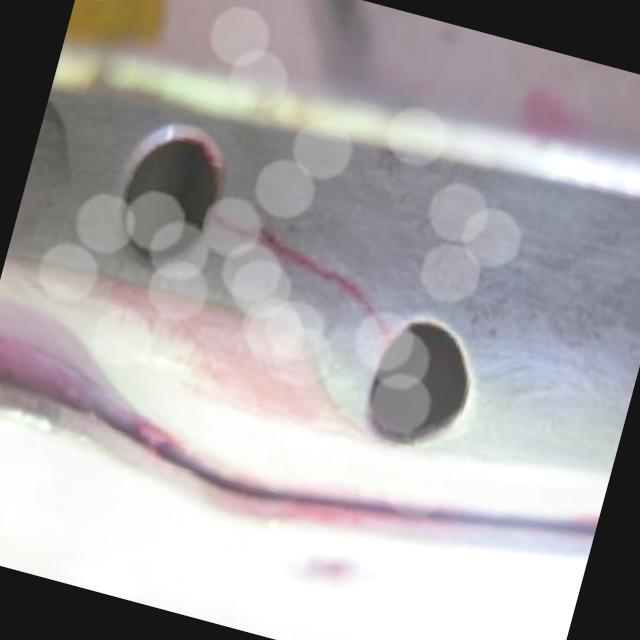crack: (208, 212, 292, 250), (344, 291, 401, 342), (282, 250, 354, 289)
